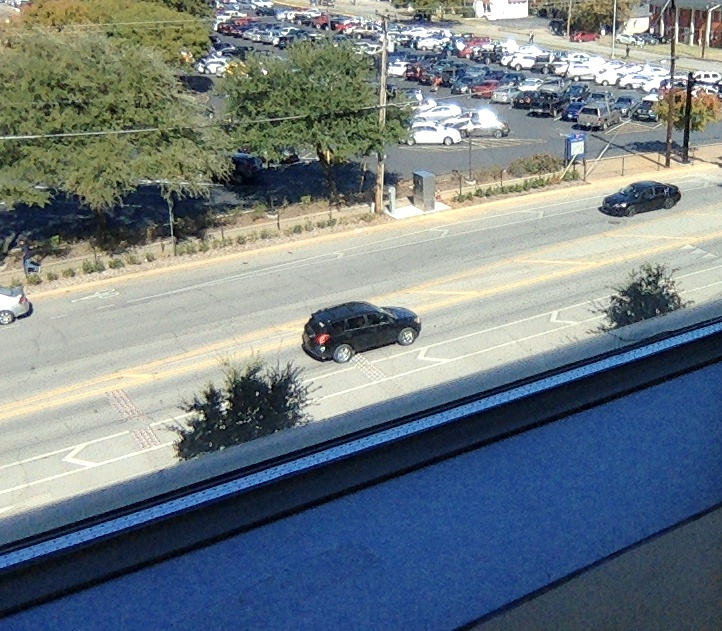car: (300, 300, 422, 364)
